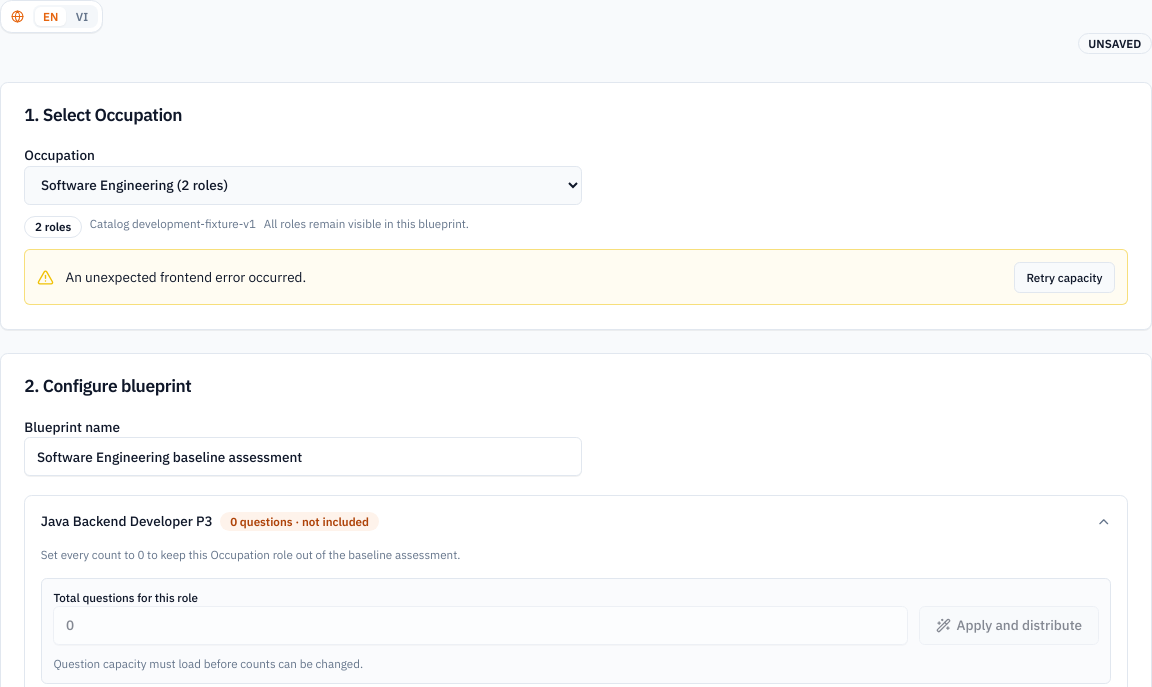
Test: BaselineBlueprintPage › keeps the unsaved draft while capacity loading is retried
expect the button "Retry capacity" is shown: met, box [1014,262,1115,293]
Replace the text in the field labelled "Blueprint name" with "Draft retained across retry": (303, 457) [24,437,582,476]
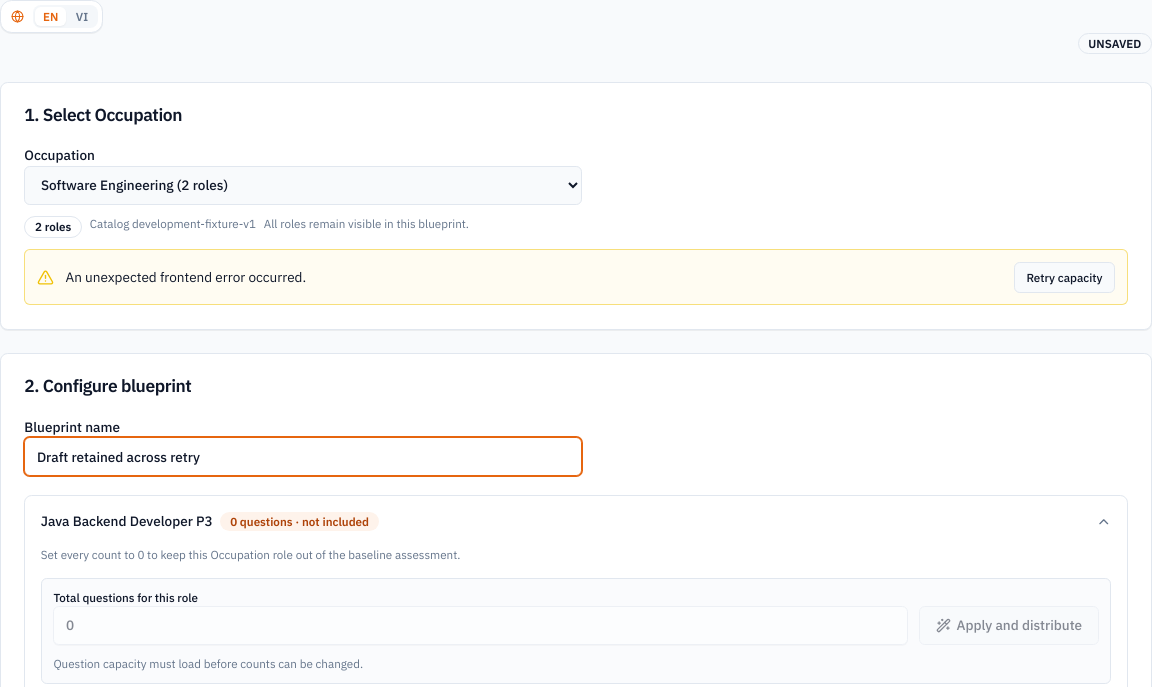
Click the button "Retry capacity": (1064, 277) [1014,262,1115,293]
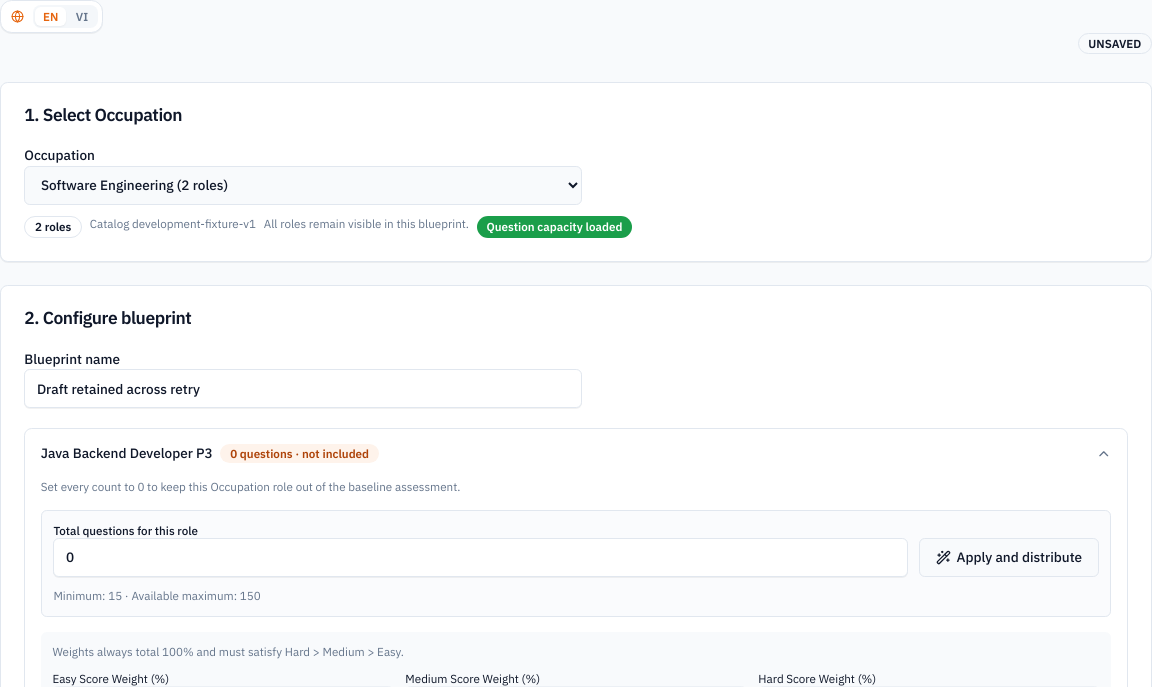
expect the text "Question capacity loaded" is shown: met, box [477,216,632,238]
